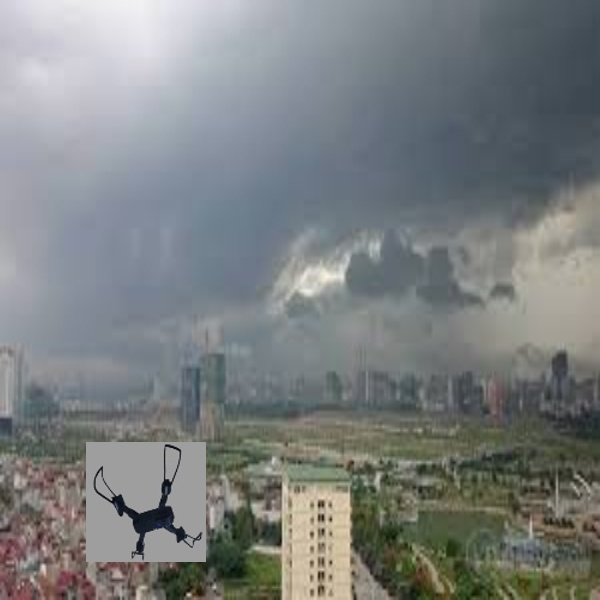drone: (84, 442, 208, 561)
